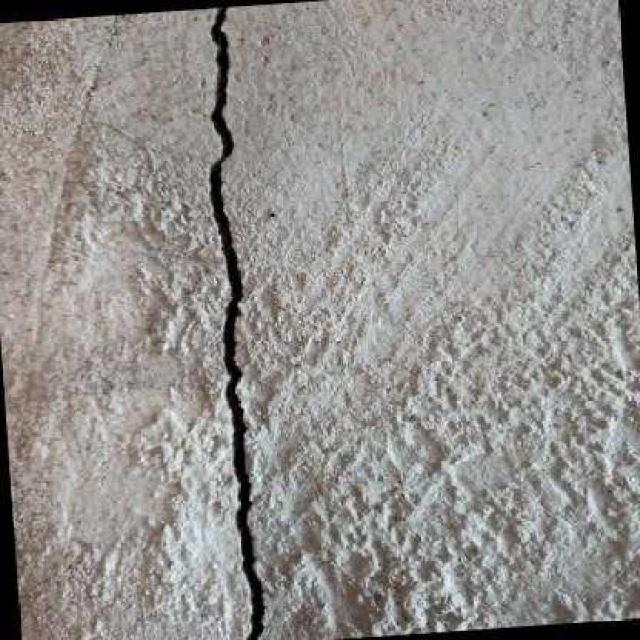D00: (208, 6, 266, 640)
